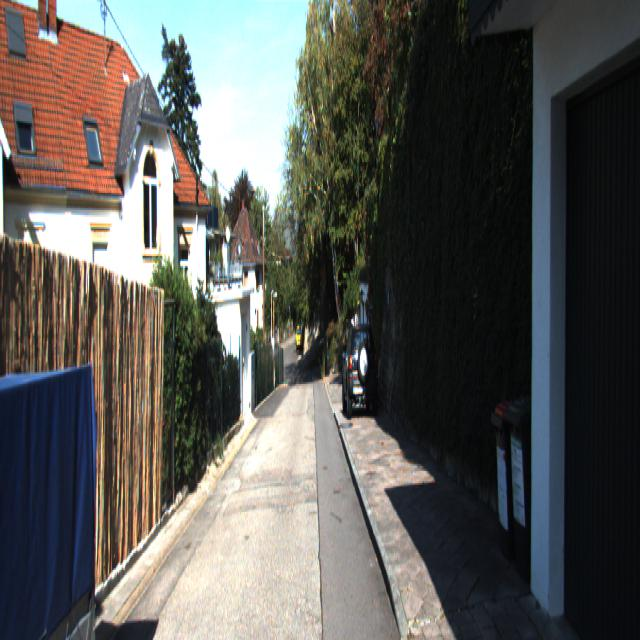Car: (0, 355, 103, 638), (340, 321, 380, 423)
